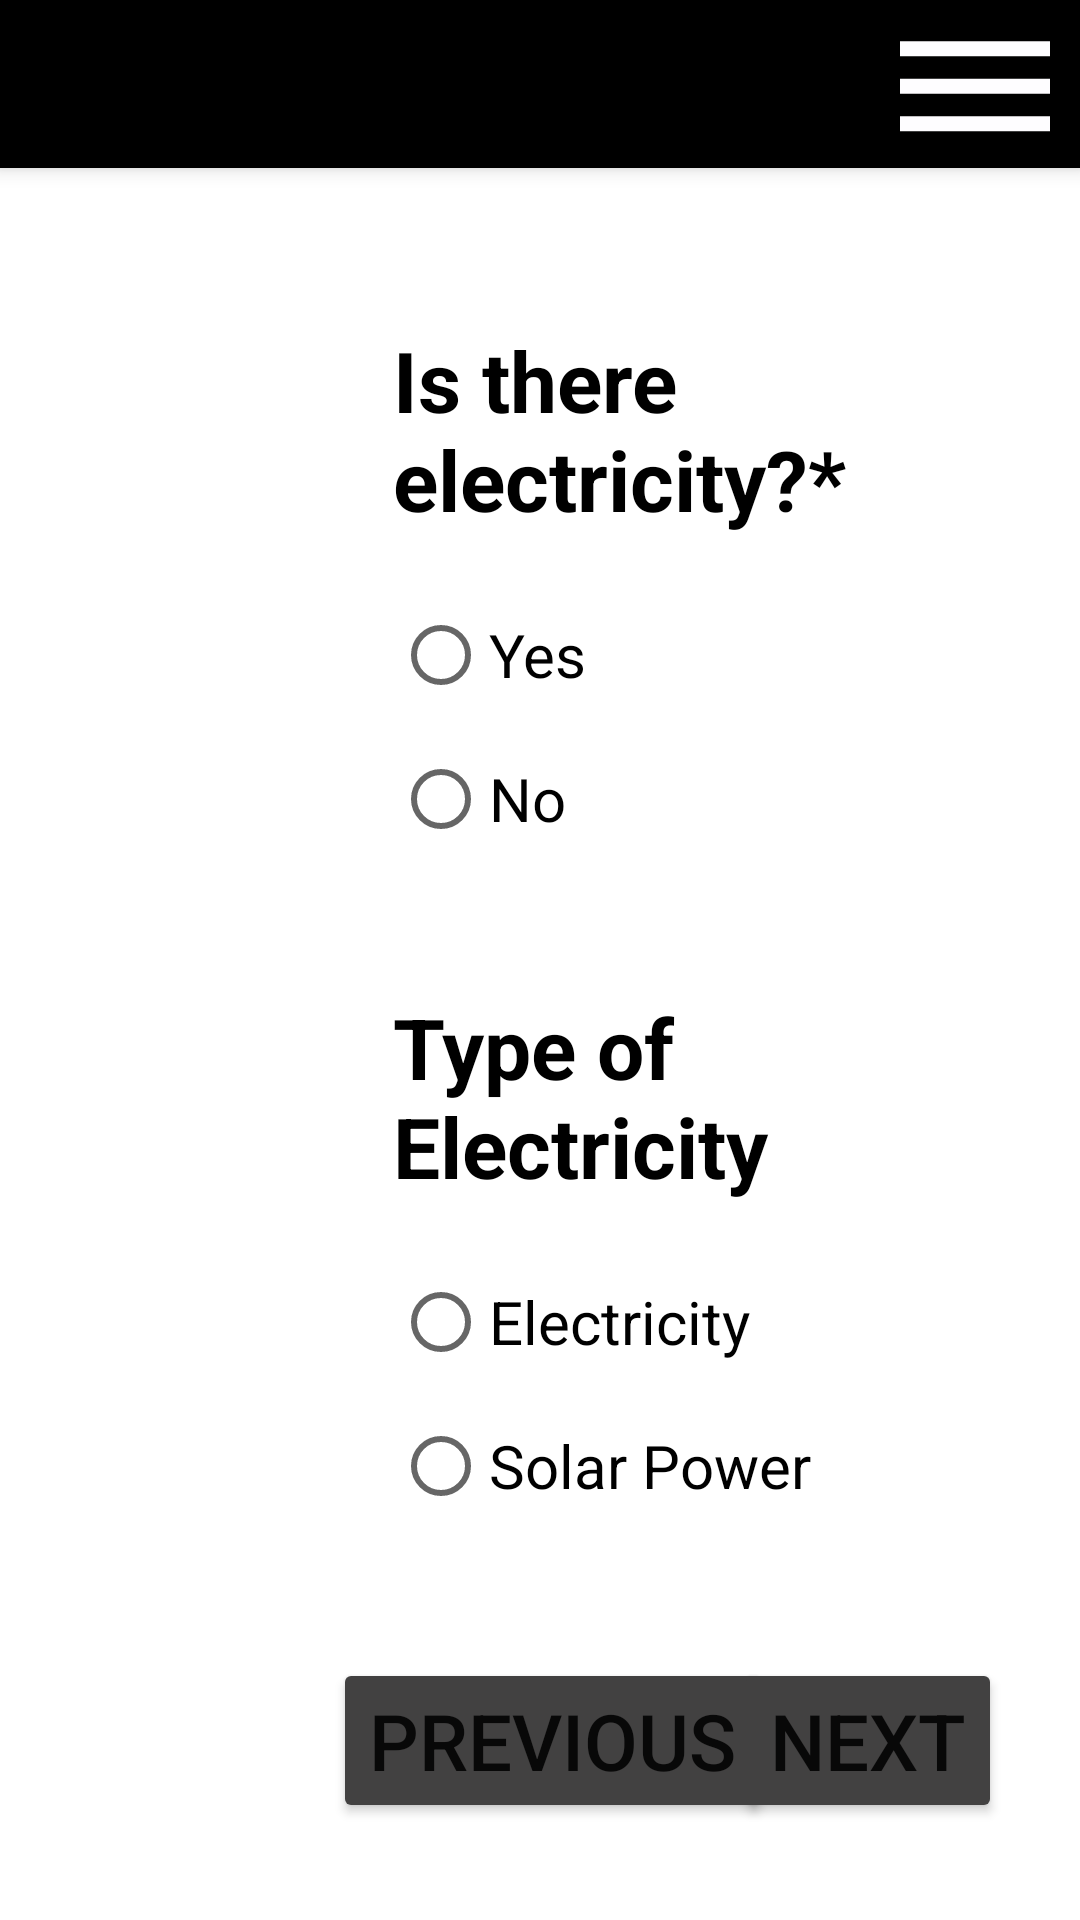

Named icons in this screenshot (1080*1920) and their centers, (x=x, y=y):
dehaze: (x=975, y=86)
